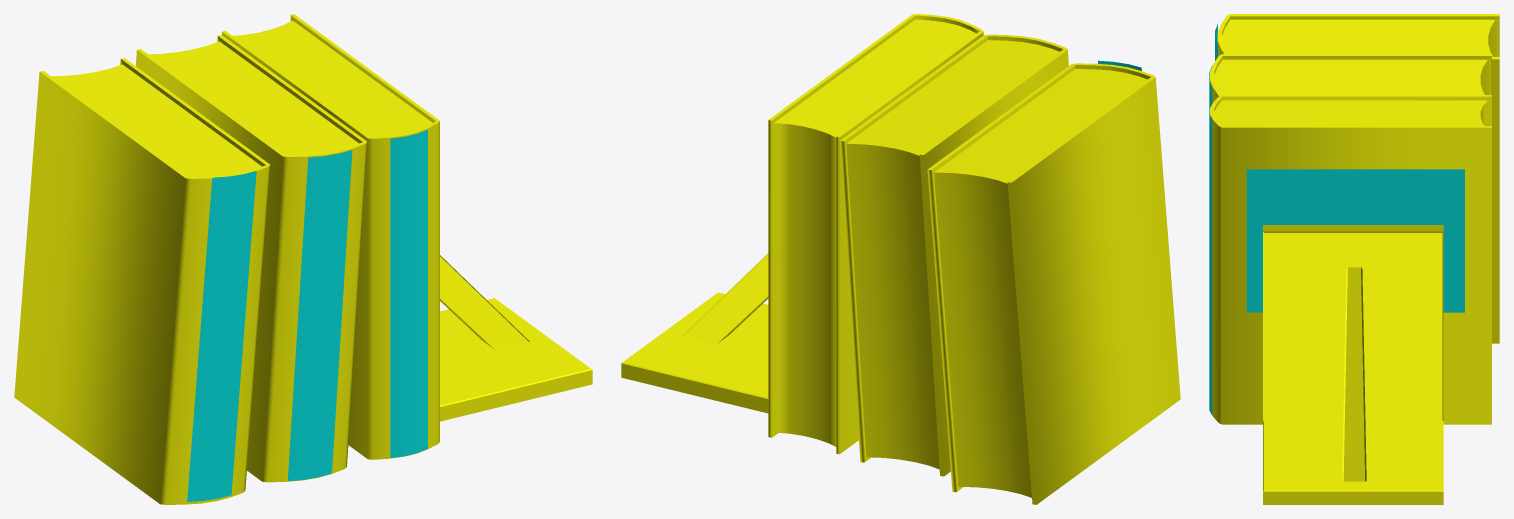
File: Books.fbx
The picture shows the model from 3 angles, left to right: view 1: azimuth 30°, elevation 25°; view 2: azimuth 150°, elevation 25°; view 3: azimuth 270°, elevation 25°; orthographic projection. The views are drawn at different scales.
Parts seen in each view (by area): view 1: polySurface92, polySurface99, polySurface102, polySurface94; view 2: polySurface92, polySurface99, polySurface102, polySurface94; view 3: polySurface102, polySurface94, polySurface92, polySurface99.
Boxes of the visible parts, x1,y1,x2,y2 form: polySurface92: (14,58,270,504); polySurface99: (136,35,367,482); polySurface102: (222,14,439,459); polySurface94: (440,255,592,421); polySurface92: (927,60,1180,504); polySurface99: (840,34,1068,476); polySurface102: (768,14,983,454); polySurface94: (621,253,768,413); polySurface102: (1209,95,1491,424); polySurface94: (1263,225,1443,504); polySurface92: (1215,14,1499,343); polySurface99: (1209,54,1491,108).
Size of the model in its own units: 270 by 189 by 163.
